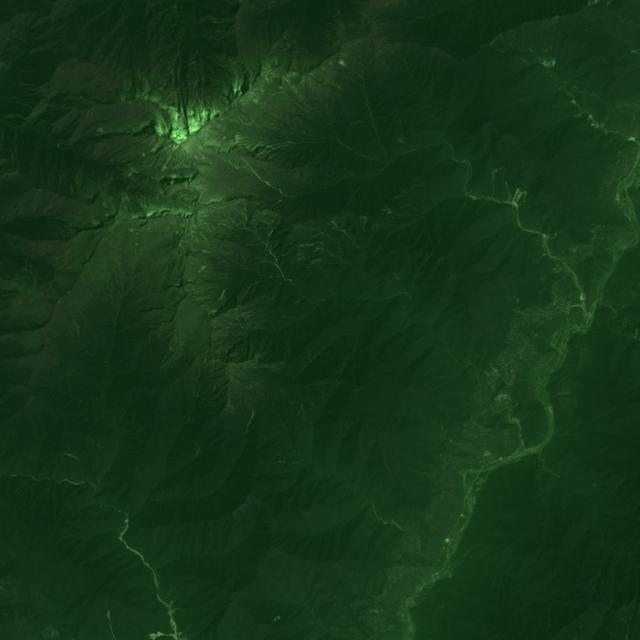landslides: (329, 66, 365, 89), (237, 276, 262, 305), (594, 551, 612, 589), (129, 253, 145, 289), (421, 586, 443, 610), (626, 604, 638, 640), (357, 518, 378, 534), (394, 469, 431, 477), (549, 28, 557, 61), (615, 267, 640, 277), (246, 410, 256, 434), (106, 610, 114, 635), (136, 467, 146, 486), (460, 387, 485, 394), (64, 452, 81, 462), (442, 309, 460, 318), (546, 231, 559, 243), (415, 568, 426, 582), (344, 339, 354, 354), (490, 363, 499, 379), (484, 371, 495, 384), (286, 459, 306, 466), (518, 412, 529, 424), (351, 121, 375, 126), (334, 145, 343, 158), (548, 260, 560, 269), (300, 400, 306, 418), (184, 383, 196, 392), (420, 567, 428, 580), (596, 266, 609, 274)
